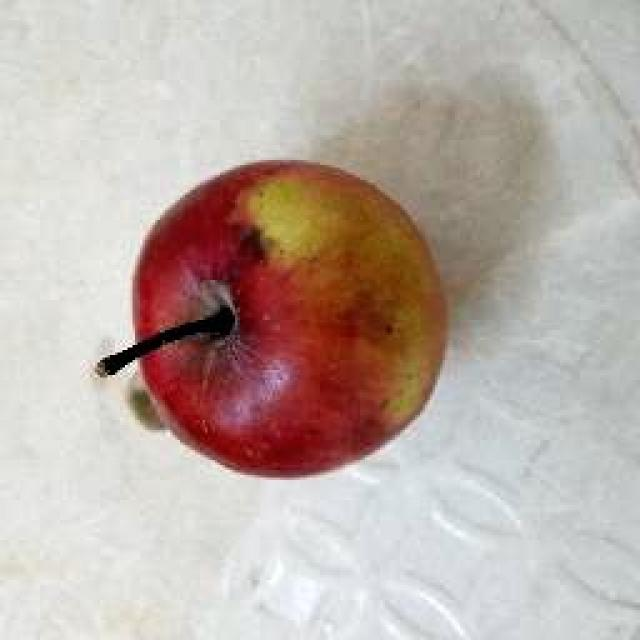Good_Apple: (90, 160, 448, 482)
